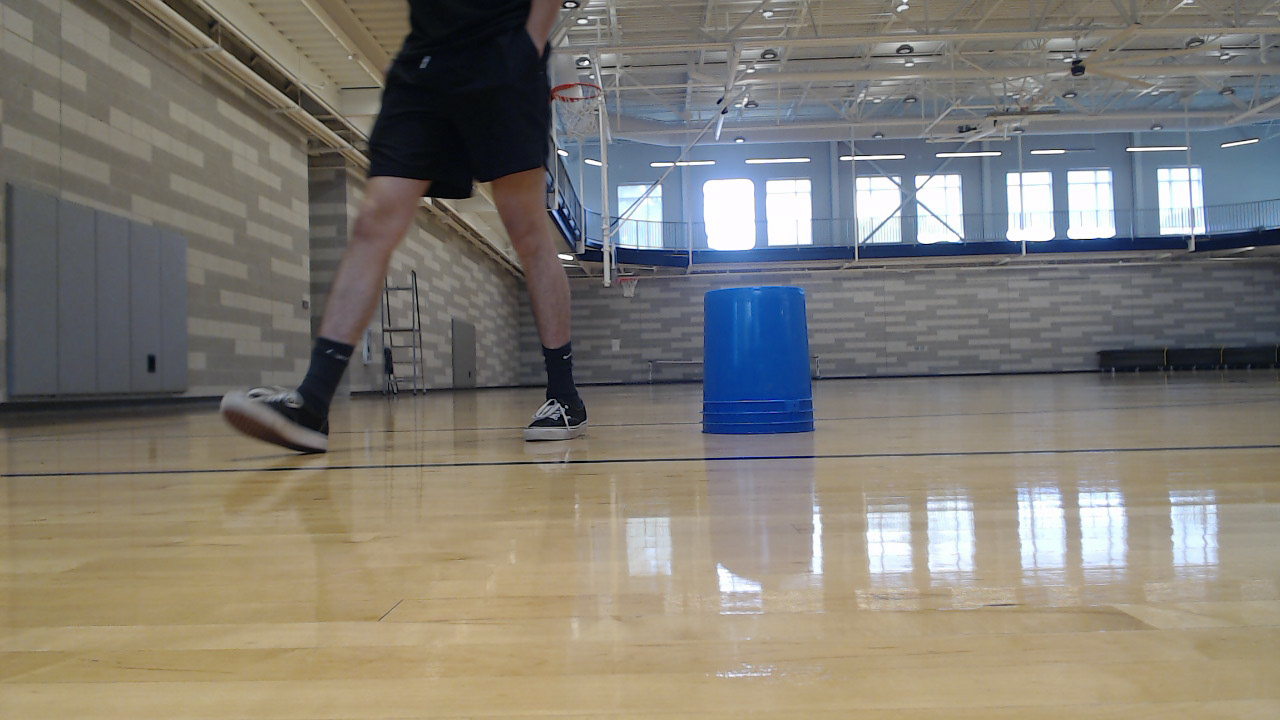blue_bucket: (706, 290, 820, 440)
